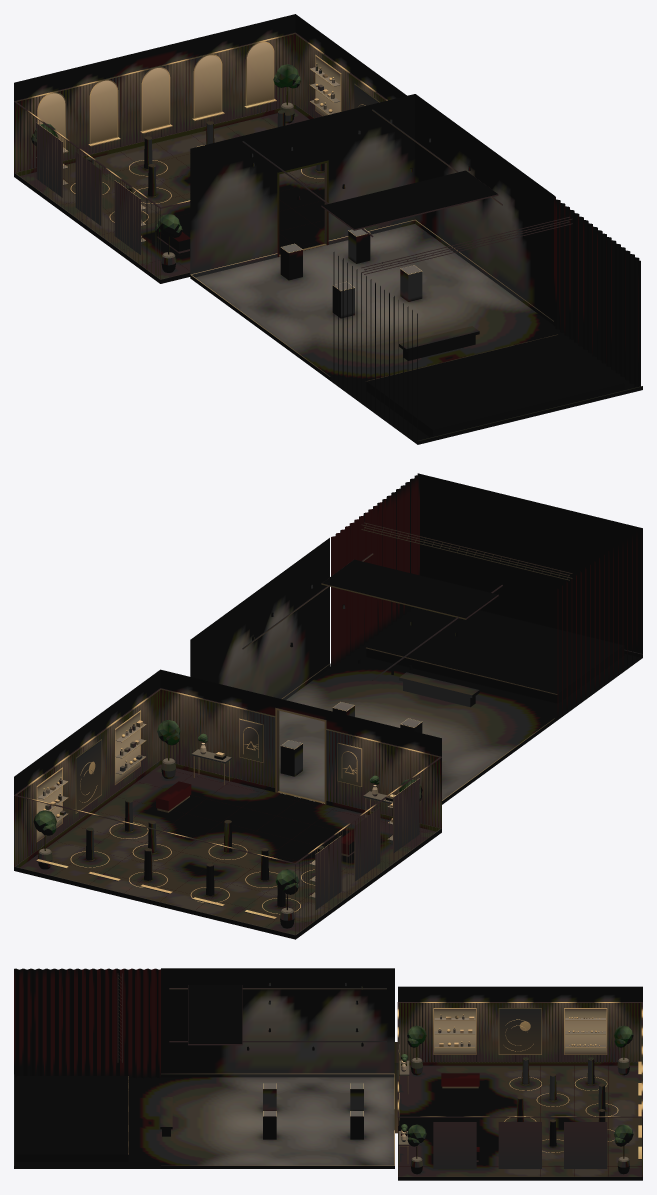
The model's file is showroom.glb.
The picture shows the model from 3 angles, top to bottom: view 1: azimuth 30°, elevation 25°; view 2: azimuth 150°, elevation 25°; view 3: azimuth 270°, elevation 25°; orthographic projection. The views are drawn at different scales.
Parts seen in each view (by area): view 1: Showroom; view 2: Showroom; view 3: Showroom.
Part boxes in pixels (bbox=[...]): Showroom: bbox=[14, 14, 642, 444]; Showroom: bbox=[14, 473, 642, 939]; Showroom: bbox=[14, 968, 642, 1180].
Size of the model in its own units: 10.01 by 4.4 by 23.1.
